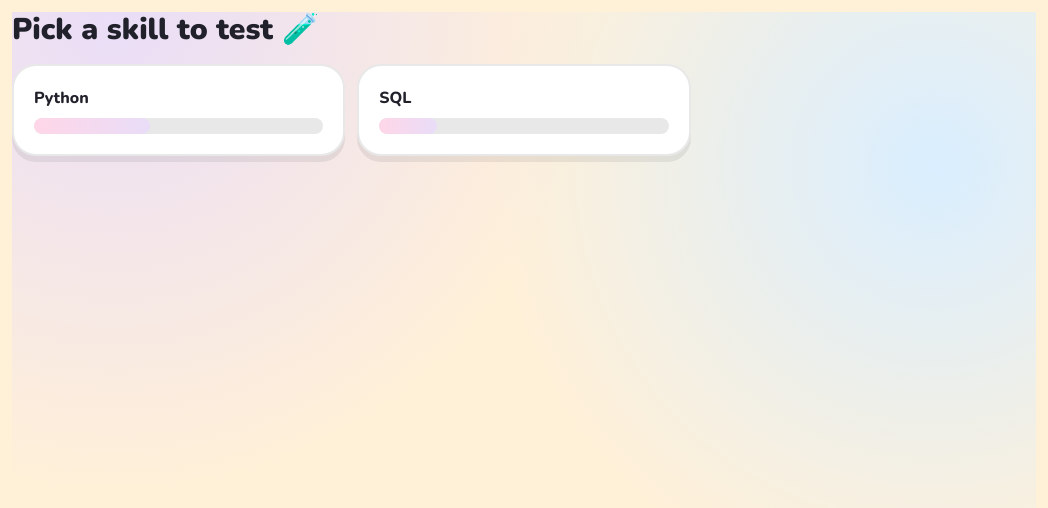
Test: Assess (quiz workflow) › runs a full quiz: radio options, gated Next button, submits token + answers, shows results and refreshes progress
Step 1. Click the button "Python" → click(179, 110), box [12,64,345,156]
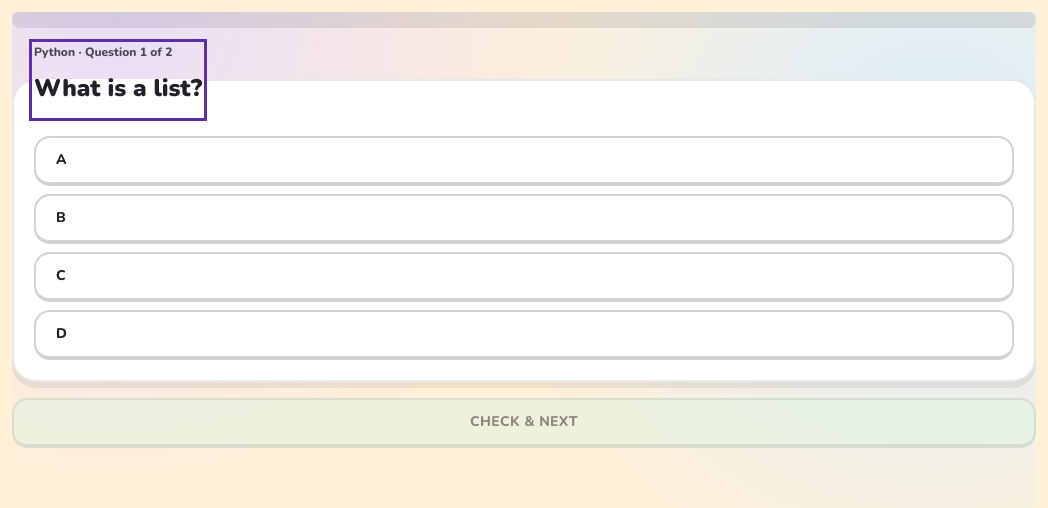
Expected: the element "Python · Question 1 of 2 What is a list? A B C D" is shown
Expected: the button "Check & next" is disabled, [12,398,1036,448]
Step 2. Click the radio button labelled "B" → click(61, 218), box [34,194,1014,244]
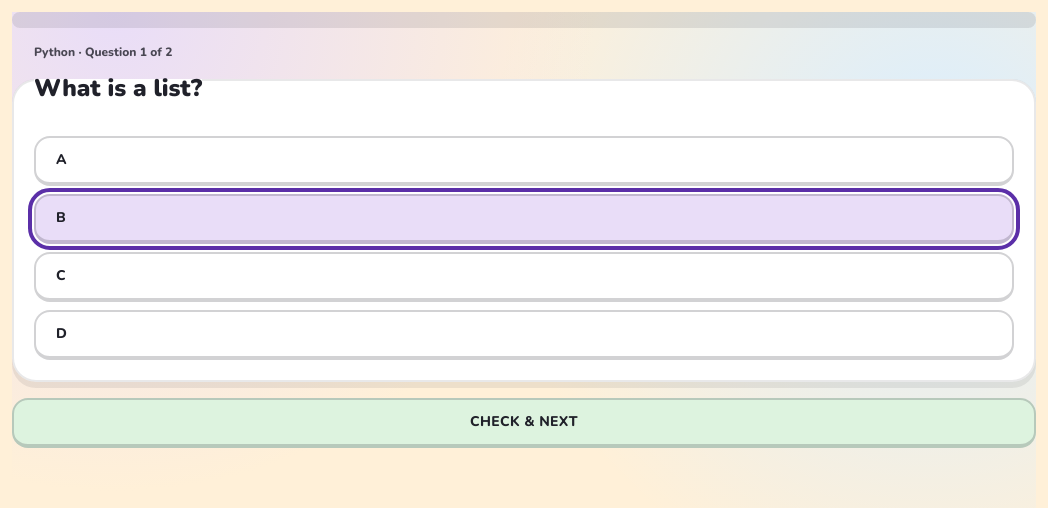
Expected: the button "Check & next" is enabled
Step 3. Click the button "Check & next" → click(524, 423), box [12,398,1036,448]
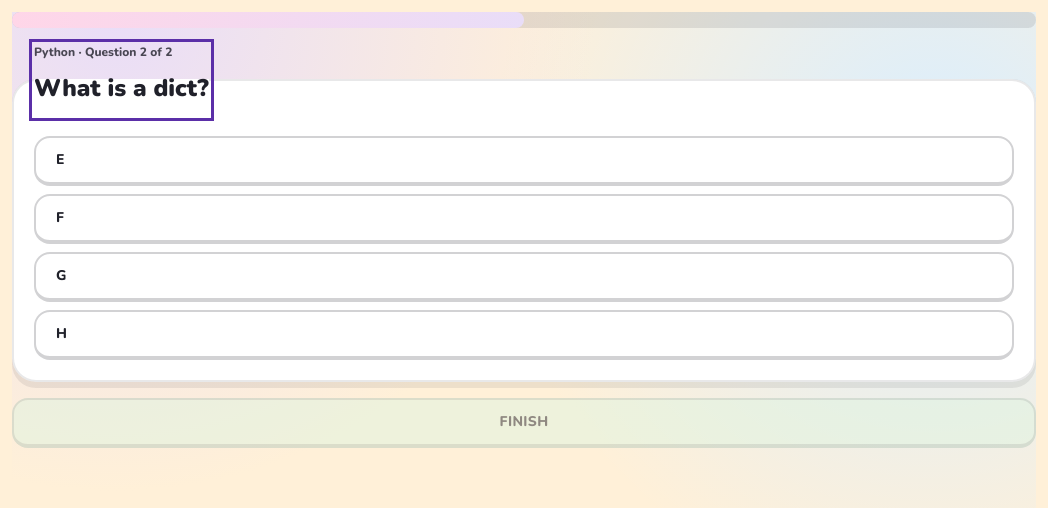
Expected: the element "Python · Question 2 of 2 What is a dict? E F G H" is shown
Step 4. Click the radio button labelled "H" → click(62, 334), box [34,310,1014,360]
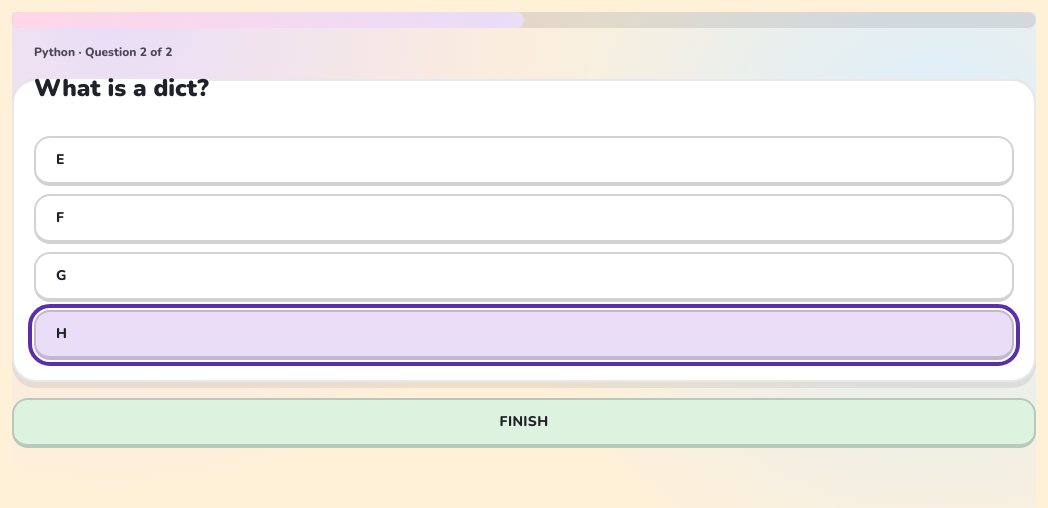
Step 5. Click the button "Finish" → click(524, 423), box [12,398,1036,448]
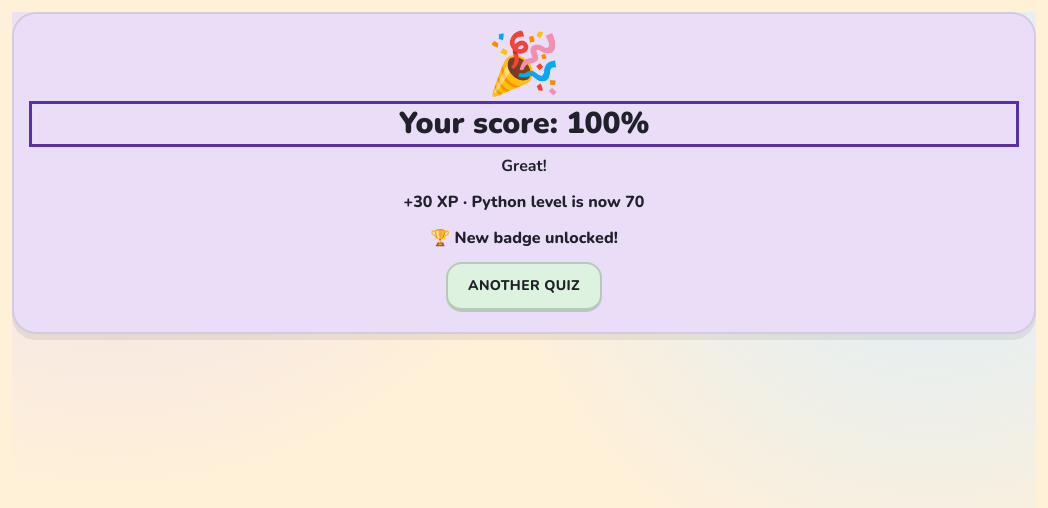
Expected: the text "+30 XP · Python level is now 70" is shown, [404,191,644,213]
Expected: the text "🏆 New badge unlocked!" is shown, [430,227,618,249]
